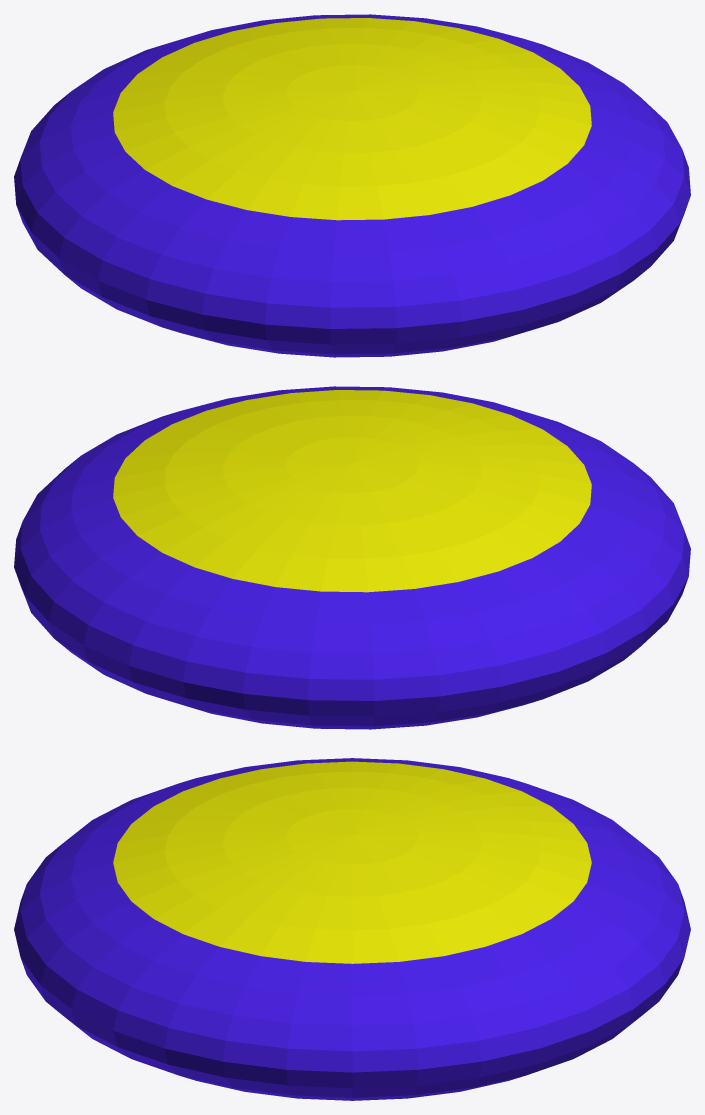
Rendered from hotspot.fbx.
3 renders of one model, top to bottom at view 1: azimuth 30°, elevation 25°; view 2: azimuth 150°, elevation 25°; view 3: azimuth 270°, elevation 25°, orthographic.
Visible parts, largest first — view 1: Sphere; view 2: Sphere; view 3: Sphere.
Boxes of the visible parts, x1,y1,x2,y2 form: Sphere: (14,14,690,357); Sphere: (14,386,690,729); Sphere: (14,758,690,1100).
Bounding box in the file's own units: 200 × 61.57 × 200.
